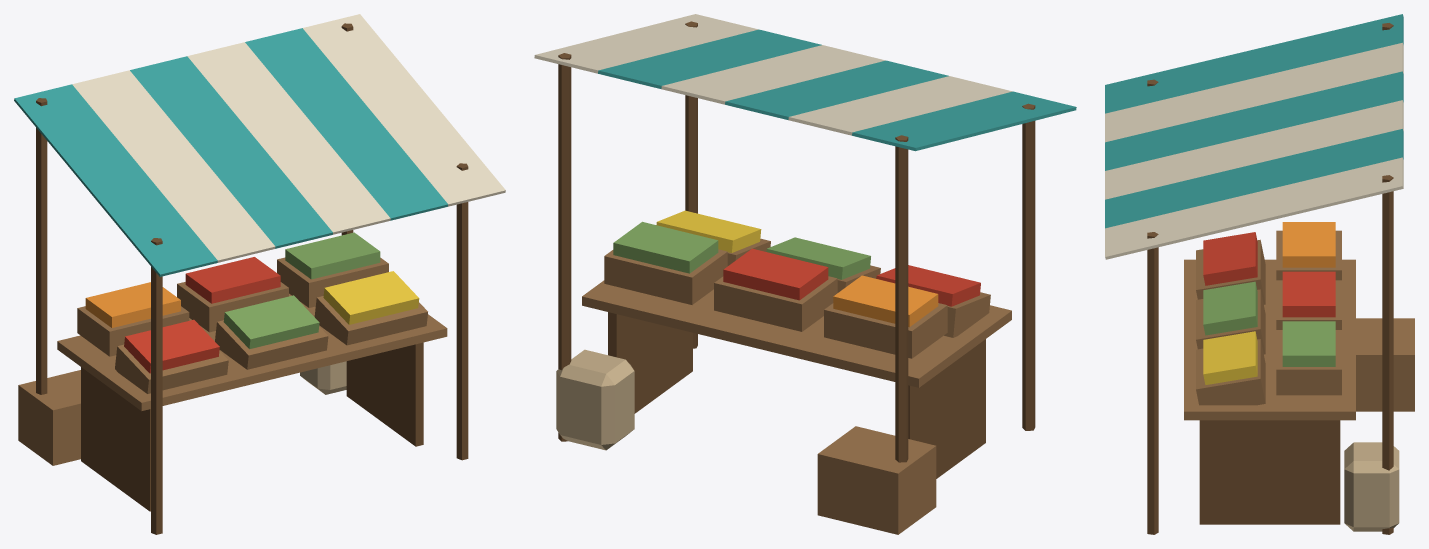
The model's file is produce_stall.gltf.
The picture shows the model from 3 angles, left to right: view 1: azimuth 30°, elevation 25°; view 2: azimuth 150°, elevation 25°; view 3: azimuth 270°, elevation 25°; orthographic projection. The views are drawn at different scales.
Visible parts, largest first — view 1: produce_stall; view 2: produce_stall; view 3: produce_stall.
Boxes of the visible parts, x1,y1,x2,y2 form: produce_stall: (14,14,505,534); produce_stall: (534,14,1076,534); produce_stall: (1105,14,1414,534).
Size of the model in its own units: 2.6 by 2.51 by 1.98.
